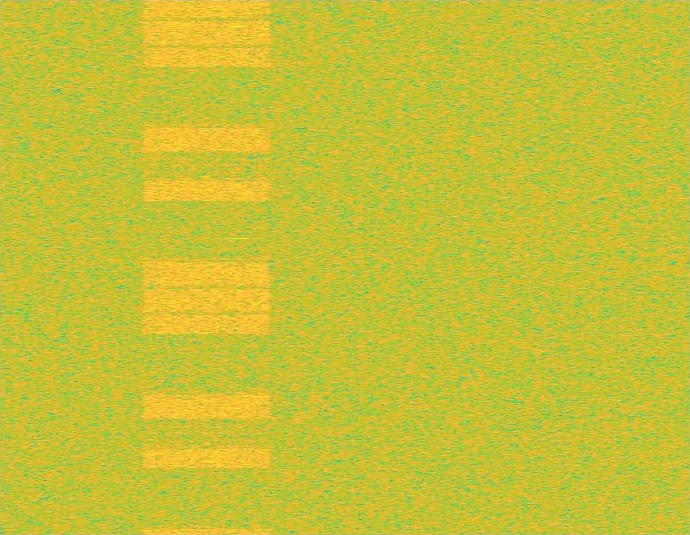LTE: (138, 0, 276, 534)
Radar: (231, 0, 245, 534)
